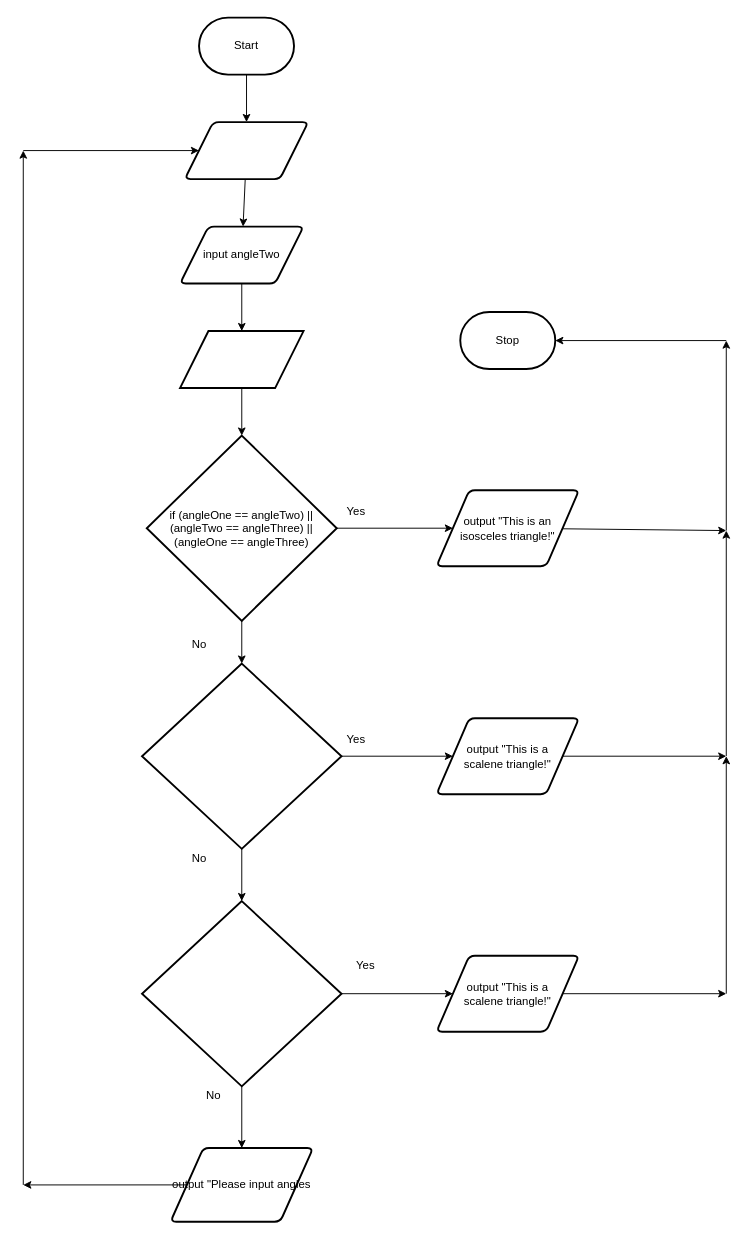
The diagram is 751 pixels wide and 1239 high, and some of its shapes have lost their labels. Each missing label, with the centre of its shape:
else if (angleOne <> angleTwo <> angleThree): point 241,755
else if (angleOne == angleTwo == angleThree): point 241,993
input angleOne: point 246,150
input angleThree: point 241,359
